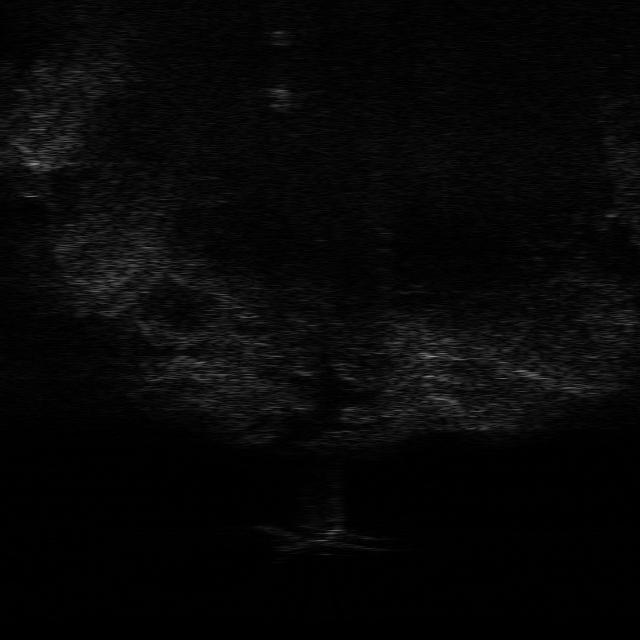plane: (257, 515, 385, 553)
